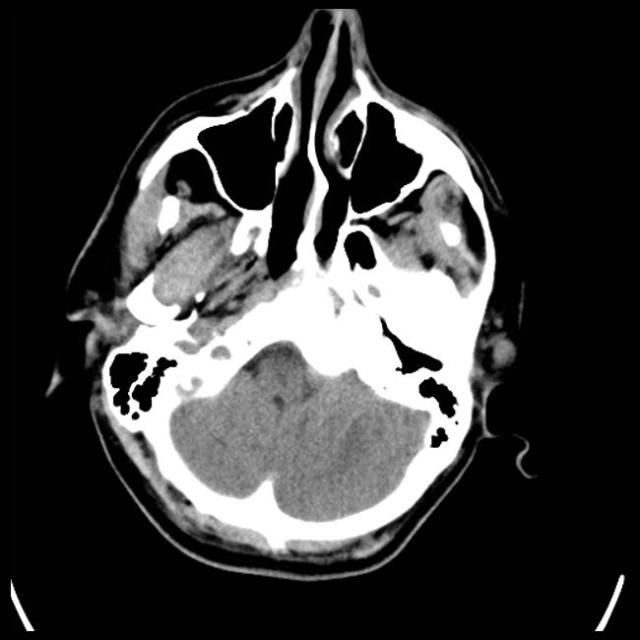lesion: (56, 8, 522, 578)
